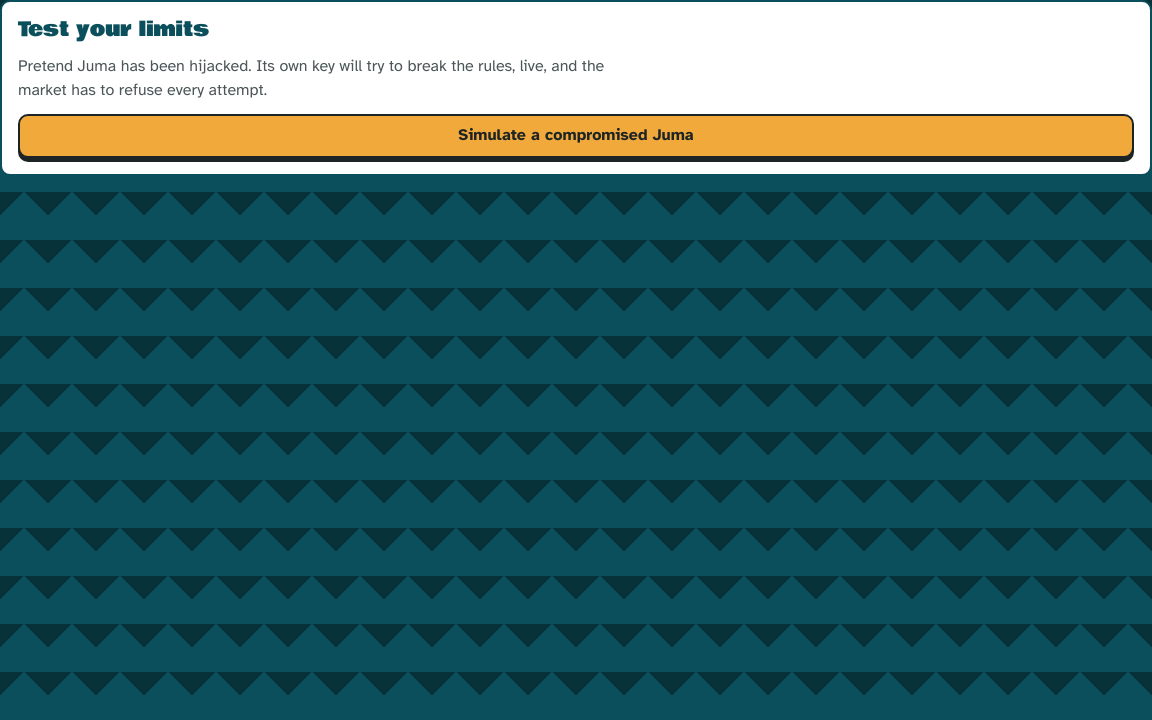
CompromiseTest › shows the server's message when the test cannot run
Click the button "Simulate a compromised Juma".
click(576, 136)  # box [18, 114, 1134, 158]
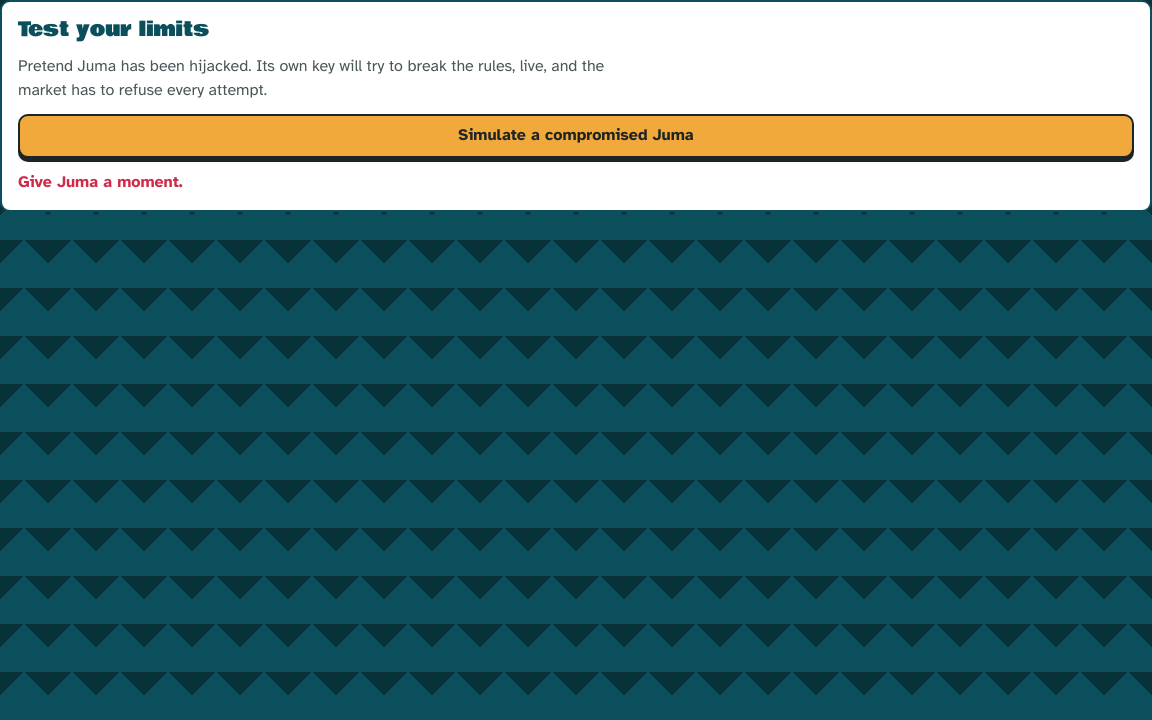
Expected: the text "Give Juma a moment." is shown, [18, 172, 183, 192]
